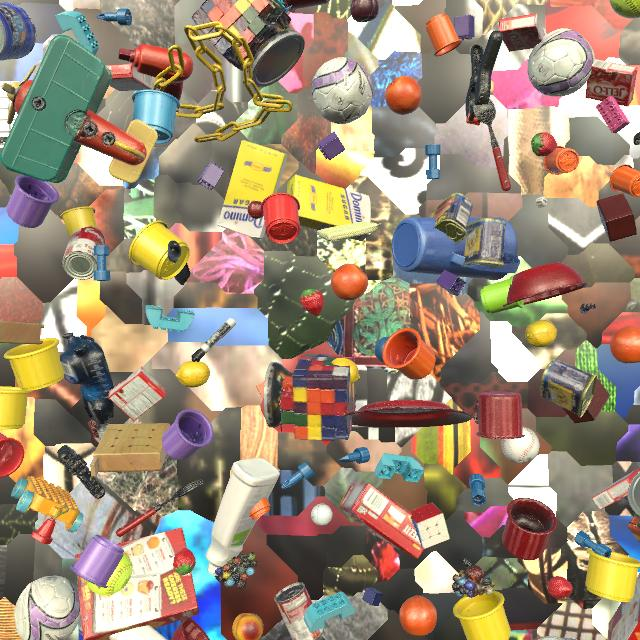ycb_002_master_chef_can: (0, 3, 36, 61), (537, 636, 577, 640), (78, 618, 83, 640)
ycb_003_cracker_box: (75, 527, 199, 640), (339, 483, 424, 559), (608, 573, 640, 640)
ycb_004_sugar_box: (218, 140, 288, 239), (287, 174, 371, 241)
ycb_005_tomato_soup_can: (274, 582, 324, 640), (62, 225, 105, 280)
ycb_009_gelatin_box: (108, 366, 167, 421), (585, 59, 637, 107), (592, 468, 639, 510), (498, 13, 546, 52), (106, 64, 152, 91)
ycb_010_potted_meat_can: (540, 359, 597, 418), (462, 218, 506, 269), (429, 193, 473, 244)
ycb_012_strawberry: (531, 132, 558, 157), (300, 289, 324, 316), (173, 548, 196, 575), (547, 576, 573, 599)
ycb_014_lemon: (175, 360, 211, 387), (525, 320, 557, 347), (331, 358, 360, 385)
ycb_015_peach: (232, 613, 264, 640)
ycb_017_orange: (399, 595, 437, 636), (385, 76, 422, 115), (331, 264, 368, 301), (610, 326, 640, 363)
ycb_018_plum: (350, 0, 379, 23)
